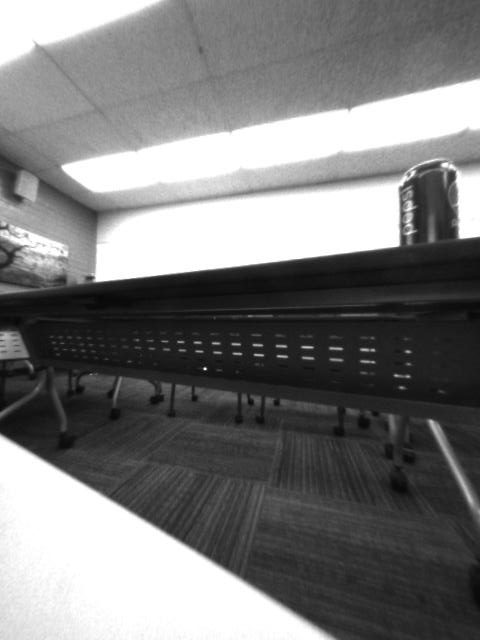can: (393, 153, 466, 251)
